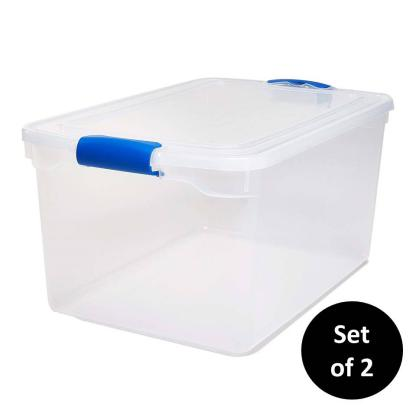plastic_box: (14, 21, 401, 366)
